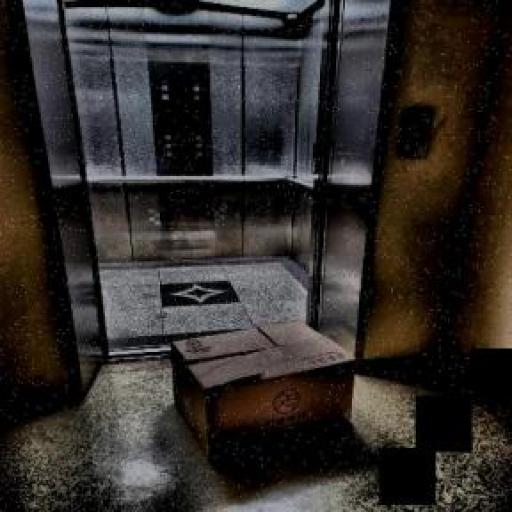box: (153, 312, 370, 463)
